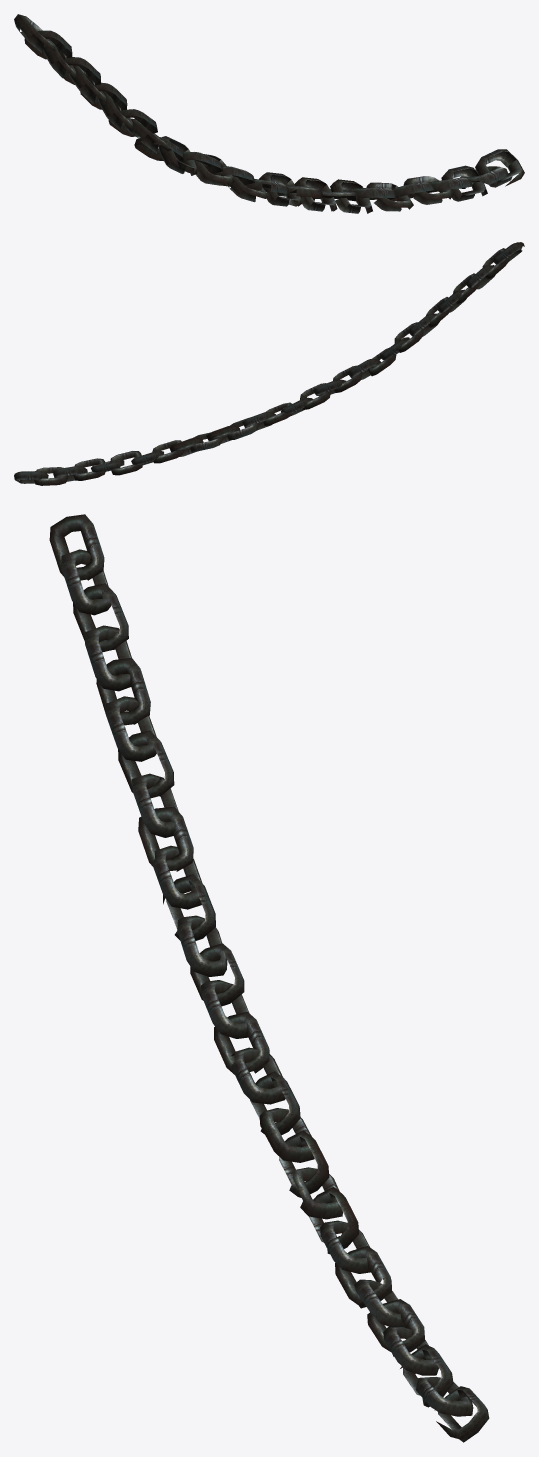
Rendered from S2_Build_XSC120_L2.FBX.
3 renders of one model, top to bottom at view 1: azimuth 30°, elevation 25°; view 2: azimuth 150°, elevation 25°; view 3: azimuth 270°, elevation 25°, orthographic. The views are drawn at different scales.
Parts seen in each view (by area): view 1: S2_Build_XSC120_L2; view 2: S2_Build_XSC120_L2; view 3: S2_Build_XSC120_L2.
Boxes of the visible parts, x1,y1,x2,y2 form: S2_Build_XSC120_L2: (14, 14, 524, 213); S2_Build_XSC120_L2: (14, 242, 524, 485); S2_Build_XSC120_L2: (49, 514, 489, 1442).
Bounding box in the file's own units: 8697 × 5460 × 4058.
